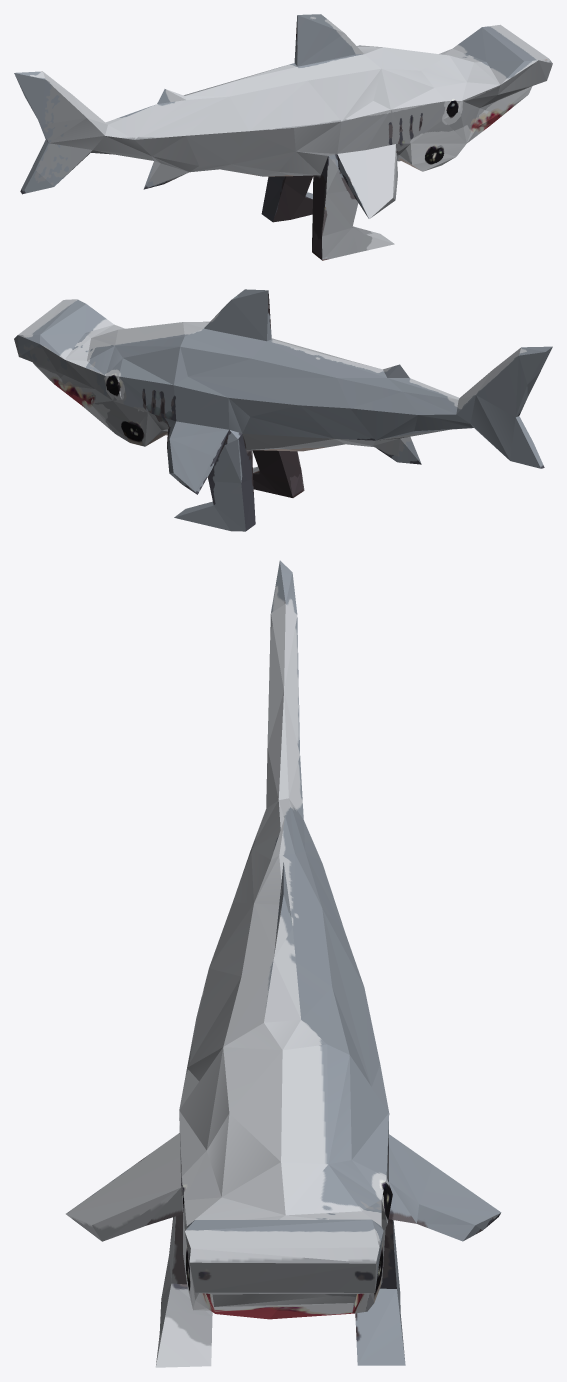
3 renders of one model, top to bottom at view 1: azimuth 30°, elevation 25°; view 2: azimuth 150°, elevation 25°; view 3: azimuth 270°, elevation 25°, orthographic. The views are drawn at different scales.
Parts seen in each view (by area): view 1: Simplified; view 2: Simplified; view 3: Simplified.
Boxes of the visible parts, x1,y1,x2,y2 form: Simplified: (14,14,552,260); Simplified: (14,289,552,531); Simplified: (66,560,501,1367).
Size of the model in its own units: 0.9559 by 0.4145 by 0.3504.
1 material, 1 textured.
